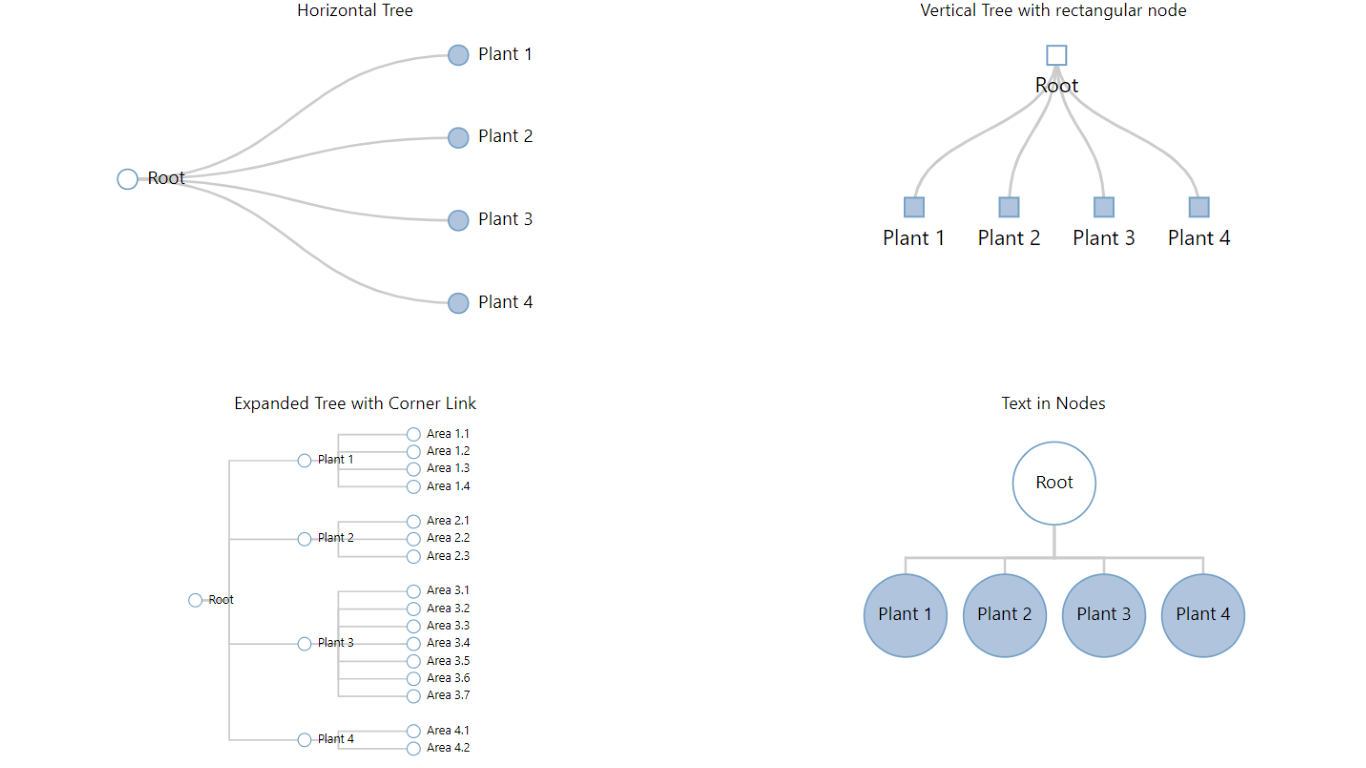

The page's visual inventory and layout, read from the dashboard file:
{"tool":"powerbi","page":{"name":"Basic Tree","canvas":[1280,720],"ordinal":0},"visuals":[{"type":"D3JsTree2F7A67F154D04FA3A4CA3E01DE5AE54B","title":"Horizontal Tree","fields":{"parentId":["TestData.ParentId"],"id":["TestData.Id"],"values":["TestData.Name"],"measure":["TestData.Performance"]},"box":[0,0,640,359.7],"z":0},{"type":"D3JsTree2F7A67F154D04FA3A4CA3E01DE5AE54B","title":"Vertical Tree with rectangular node","fields":{"parentId":["TestData.ParentId"],"id":["TestData.Id"],"values":["TestData.Name"],"measure":["TestData.Performance"]},"box":[640,0,640,359.7],"z":1000},{"type":"D3JsTree2F7A67F154D04FA3A4CA3E01DE5AE54B","title":"Expanded Tree with Corner Link","fields":{"parentId":["TestData.ParentId"],"id":["TestData.Id"],"values":["TestData.Name"],"measure":["TestData.Performance"]},"box":[0,360.5,640,359.7],"z":2000},{"type":"D3JsTree2F7A67F154D04FA3A4CA3E01DE5AE54B","title":"Text in Nodes","fields":{"parentId":["TestData.ParentId"],"id":["TestData.Id"],"values":["TestData.Name"],"measure":["TestData.Performance"]},"box":[640,360,640,359.7],"z":3000}]}

Visuals, with their boxes in screenshot pixels (x1, y1, x2, y2), scaled from the page's 1280x720 canvas onto the 1366x768 screenshot:
"Horizontal Tree" D3JsTree2F7A67F154D04FA3A4CA3E01DE5AE54B: x1=0, y1=0, x2=683, y2=384
"Vertical Tree with rectangular node" D3JsTree2F7A67F154D04FA3A4CA3E01DE5AE54B: x1=683, y1=0, x2=1365, y2=384
"Expanded Tree with Corner Link" D3JsTree2F7A67F154D04FA3A4CA3E01DE5AE54B: x1=0, y1=385, x2=683, y2=767
"Text in Nodes" D3JsTree2F7A67F154D04FA3A4CA3E01DE5AE54B: x1=683, y1=384, x2=1365, y2=767
